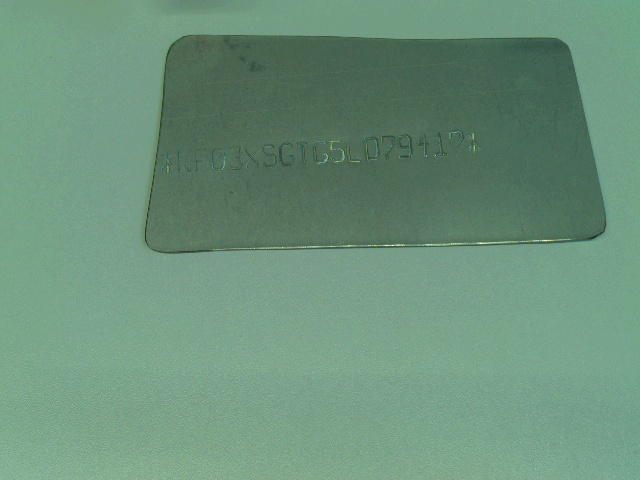0: (209, 147, 228, 173)
1: (433, 131, 448, 158)
3: (228, 145, 244, 171)
4: (417, 132, 431, 160)
5: (329, 139, 347, 166)
7: (448, 129, 465, 160), (381, 133, 397, 161)
9: (397, 133, 415, 160)
d: (362, 135, 381, 160)
f: (193, 146, 208, 171)
g: (311, 138, 329, 164), (278, 142, 295, 166)
l: (345, 139, 361, 163)
s: (262, 141, 278, 168)
t: (295, 140, 311, 165)
w: (176, 147, 193, 173)
x: (242, 145, 262, 169)
